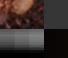slime: (0, 29, 44, 47)
spider: (0, 0, 44, 29)
